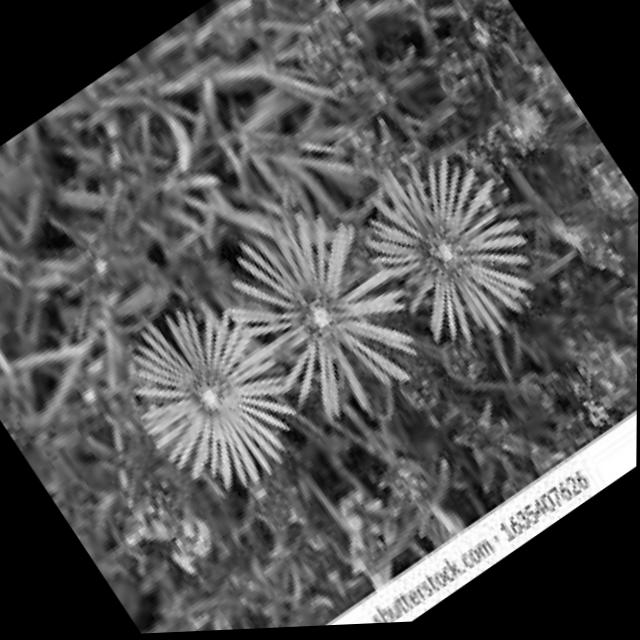Flower: (202, 171, 459, 454), (331, 121, 569, 381), (106, 279, 325, 519)
